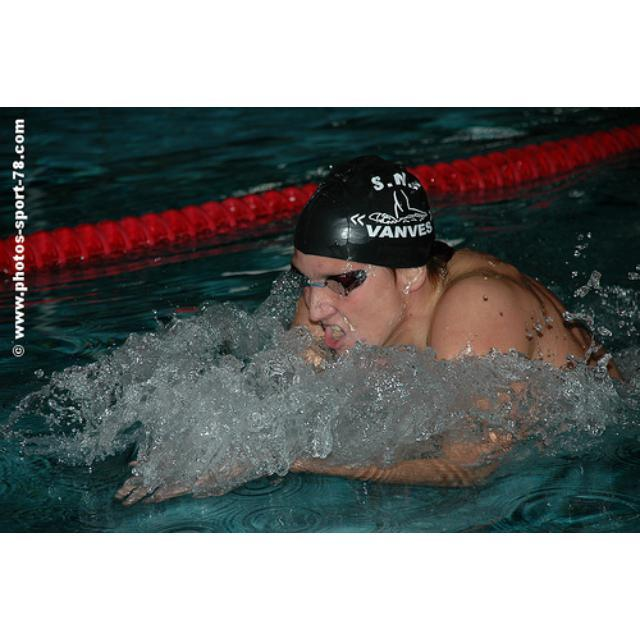human: (231, 150, 632, 490)
